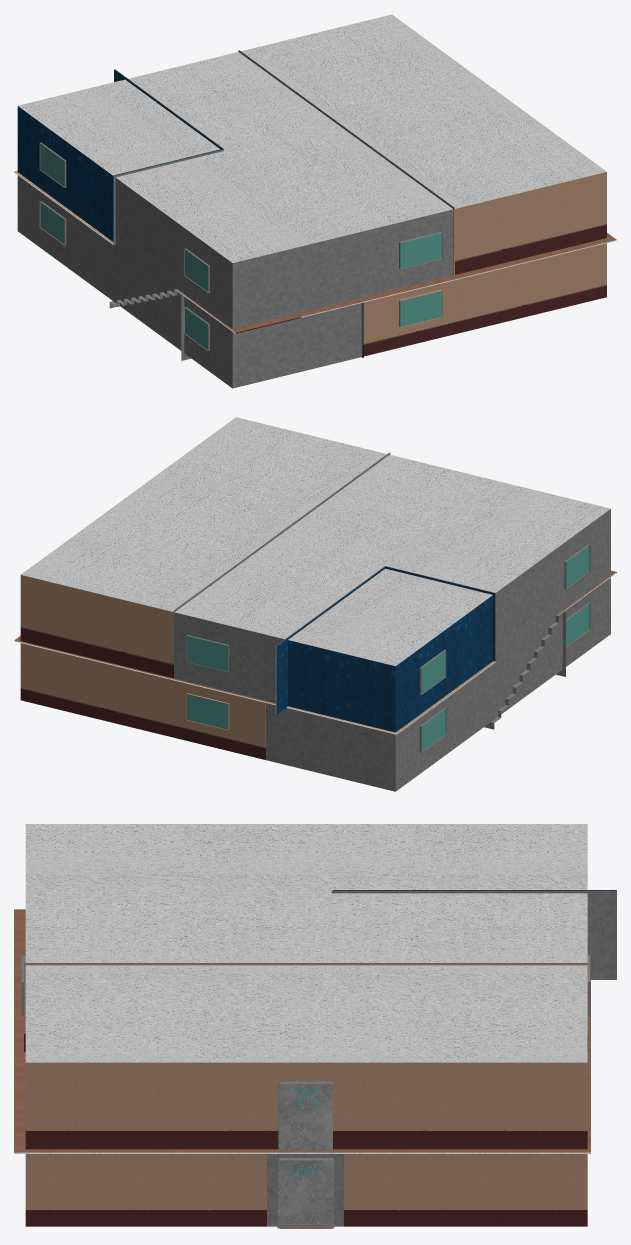
File: zebrabase-kp.glb
3 views of the same model, one above another, from view 1: azimuth 30°, elevation 25°; view 2: azimuth 150°, elevation 25°; view 3: azimuth 270°, elevation 25° (orthographic). The views are drawn at different scales.
Parts seen in each view (by area): view 1: inside, Box001.001, inside-stone-walls, Stair; view 2: inside, Box001.001, inside-stone-walls, Stair; view 3: inside, Box001.001, inside-stone-walls.
Part boxes in pixels (x1,y1,x2,y2): inside: (14,14,616,388); Box001.001: (40,143,441,349); inside-stone-walls: (113,50,453,357); Stair: (109,289,191,360); inside: (14,417,616,791); Box001.001: (186,546,589,751); inside-stone-walls: (174,453,495,714); Stair: (484,610,565,729); inside: (14,824,616,1228); Box001.001: (277,1081,334,1228); inside-stone-walls: (24,890,616,979).
Size of what is drawn, in the model's own units: 12.31 by 4.12 by 12.82.
7 materials, 7 textured.
